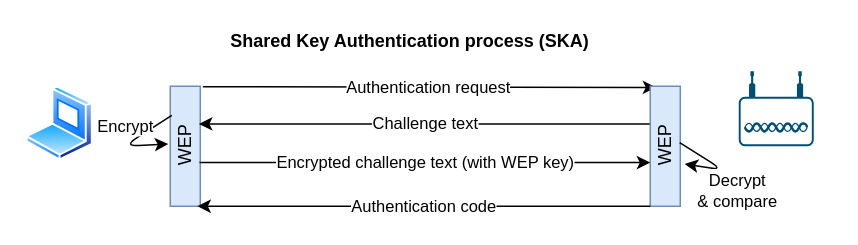
This 858x245 diagram has some shape labels left out. Here are the shapes that lost their labels. From the top down, the box of each, then its label:
(26, 86, 93, 160): Client
(738, 70, 813, 146): Access point
